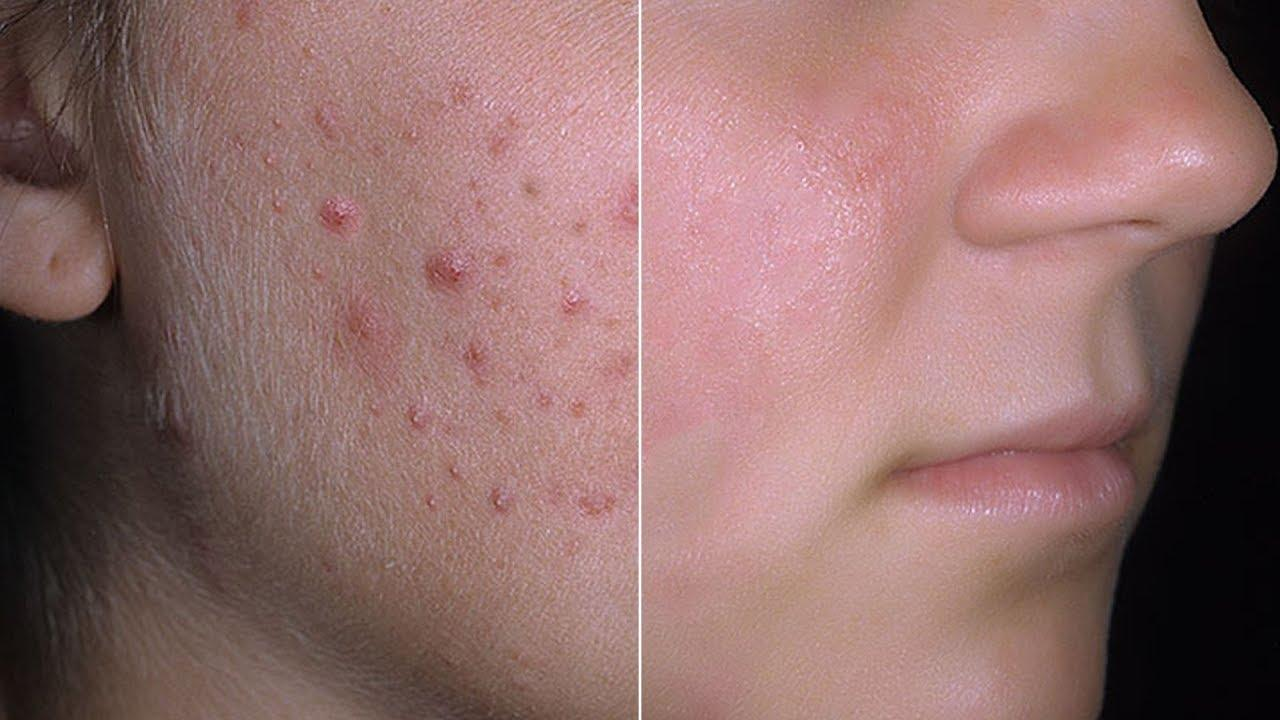Acne: (420, 222, 474, 312), (466, 330, 510, 388), (318, 166, 358, 228), (626, 188, 668, 242), (562, 270, 596, 332)
